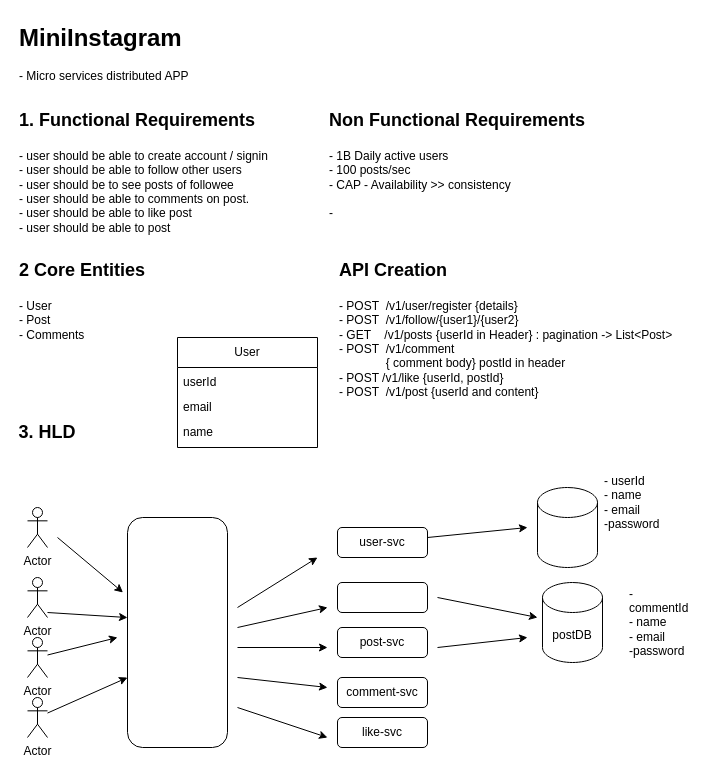
Image size: 724x775. Some labels were removed from this diagram. The centre of each missing label's shape, as x and y in pixels:
get-post-svc: the point at 382,597
LD / API Gateway - Routing - Authentication - Autherization: the point at 177,632
userDB: the point at 567,527
